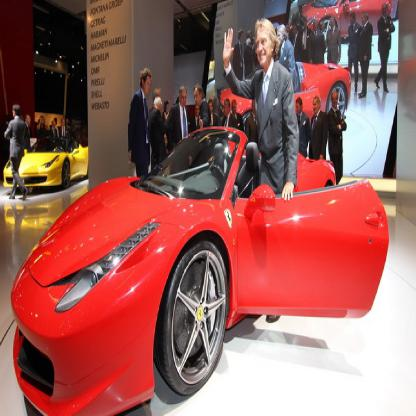Vehicle: (13, 133, 389, 415)
